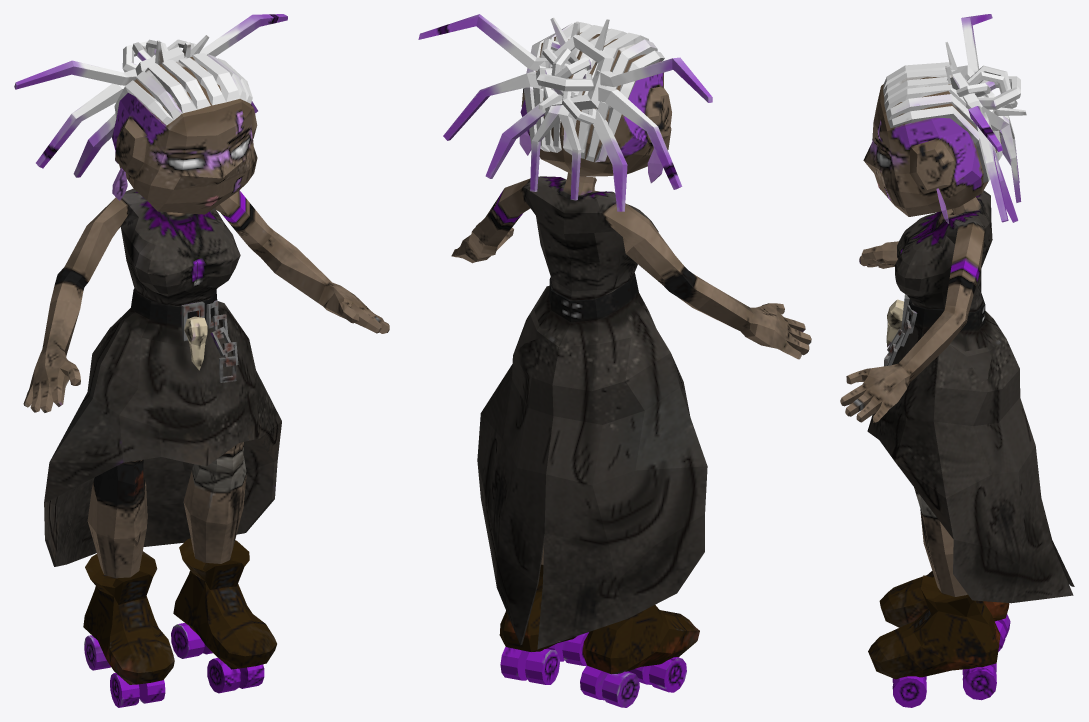
The model's file is bruja_000229.obj.
3 renders of one model, left to right at view 1: azimuth 30°, elevation 25°; view 2: azimuth 150°, elevation 25°; view 3: azimuth 270°, elevation 25°, orthographic. The views are drawn at different scales.
Parts seen in each view (by area): view 1: Bruja_Plane.001; view 2: Bruja_Plane.001; view 3: Bruja_Plane.001.
Part boxes in pixels (x1,y1,x2,y2): Bruja_Plane.001: (14,14,389,707); Bruja_Plane.001: (418,14,811,707); Bruja_Plane.001: (840,14,1074,707).
Size of the model in its own units: 9.36 by 16.68 by 5.63.
